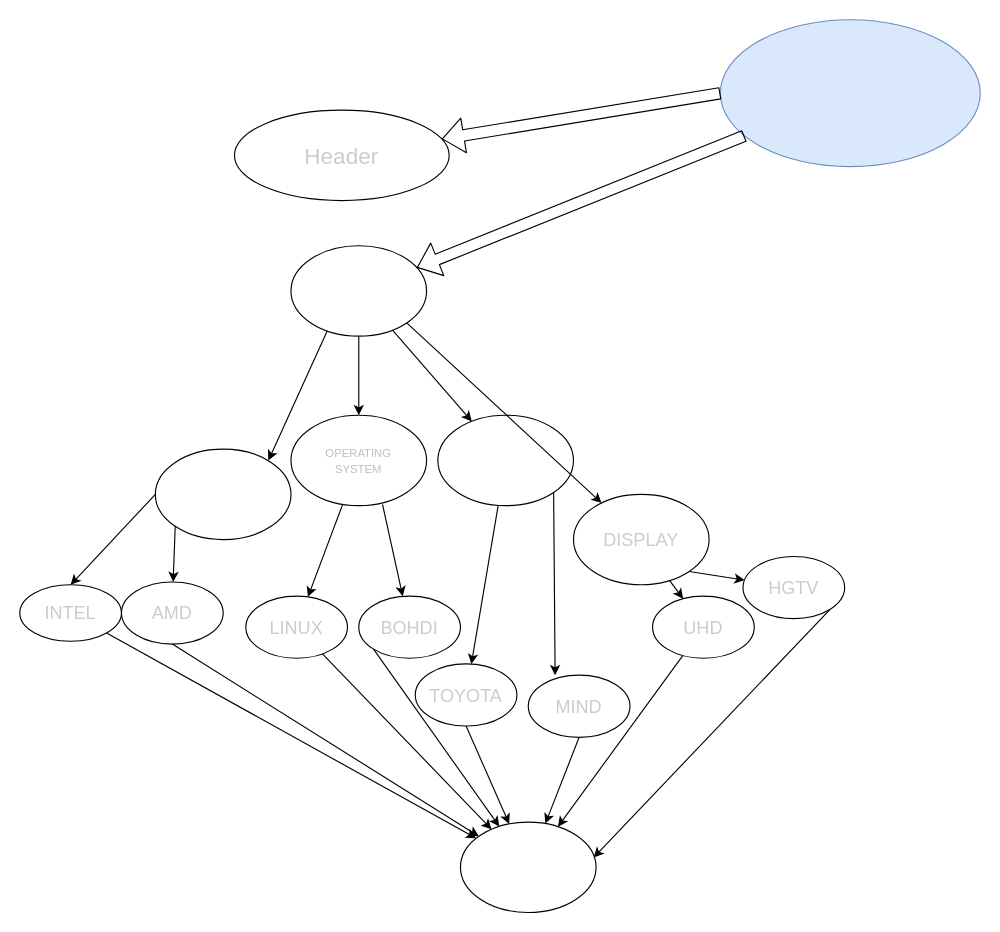
This 1000x932 diagram has some shape labels left out. Each missing label, with the box of its shape:
APP Component: (719, 19, 980, 167)
CART: (459, 821, 596, 912)
CUSTOMIZE: (290, 245, 427, 336)
PROCESSOR: (154, 448, 291, 540)
VIDEO CARD: (437, 414, 573, 506)
